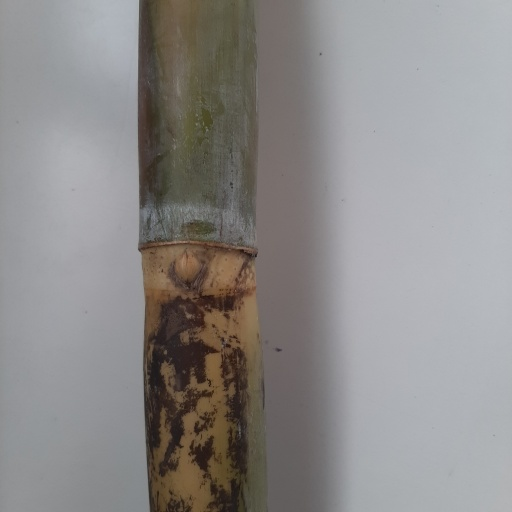Bud: (175, 247, 203, 290)
